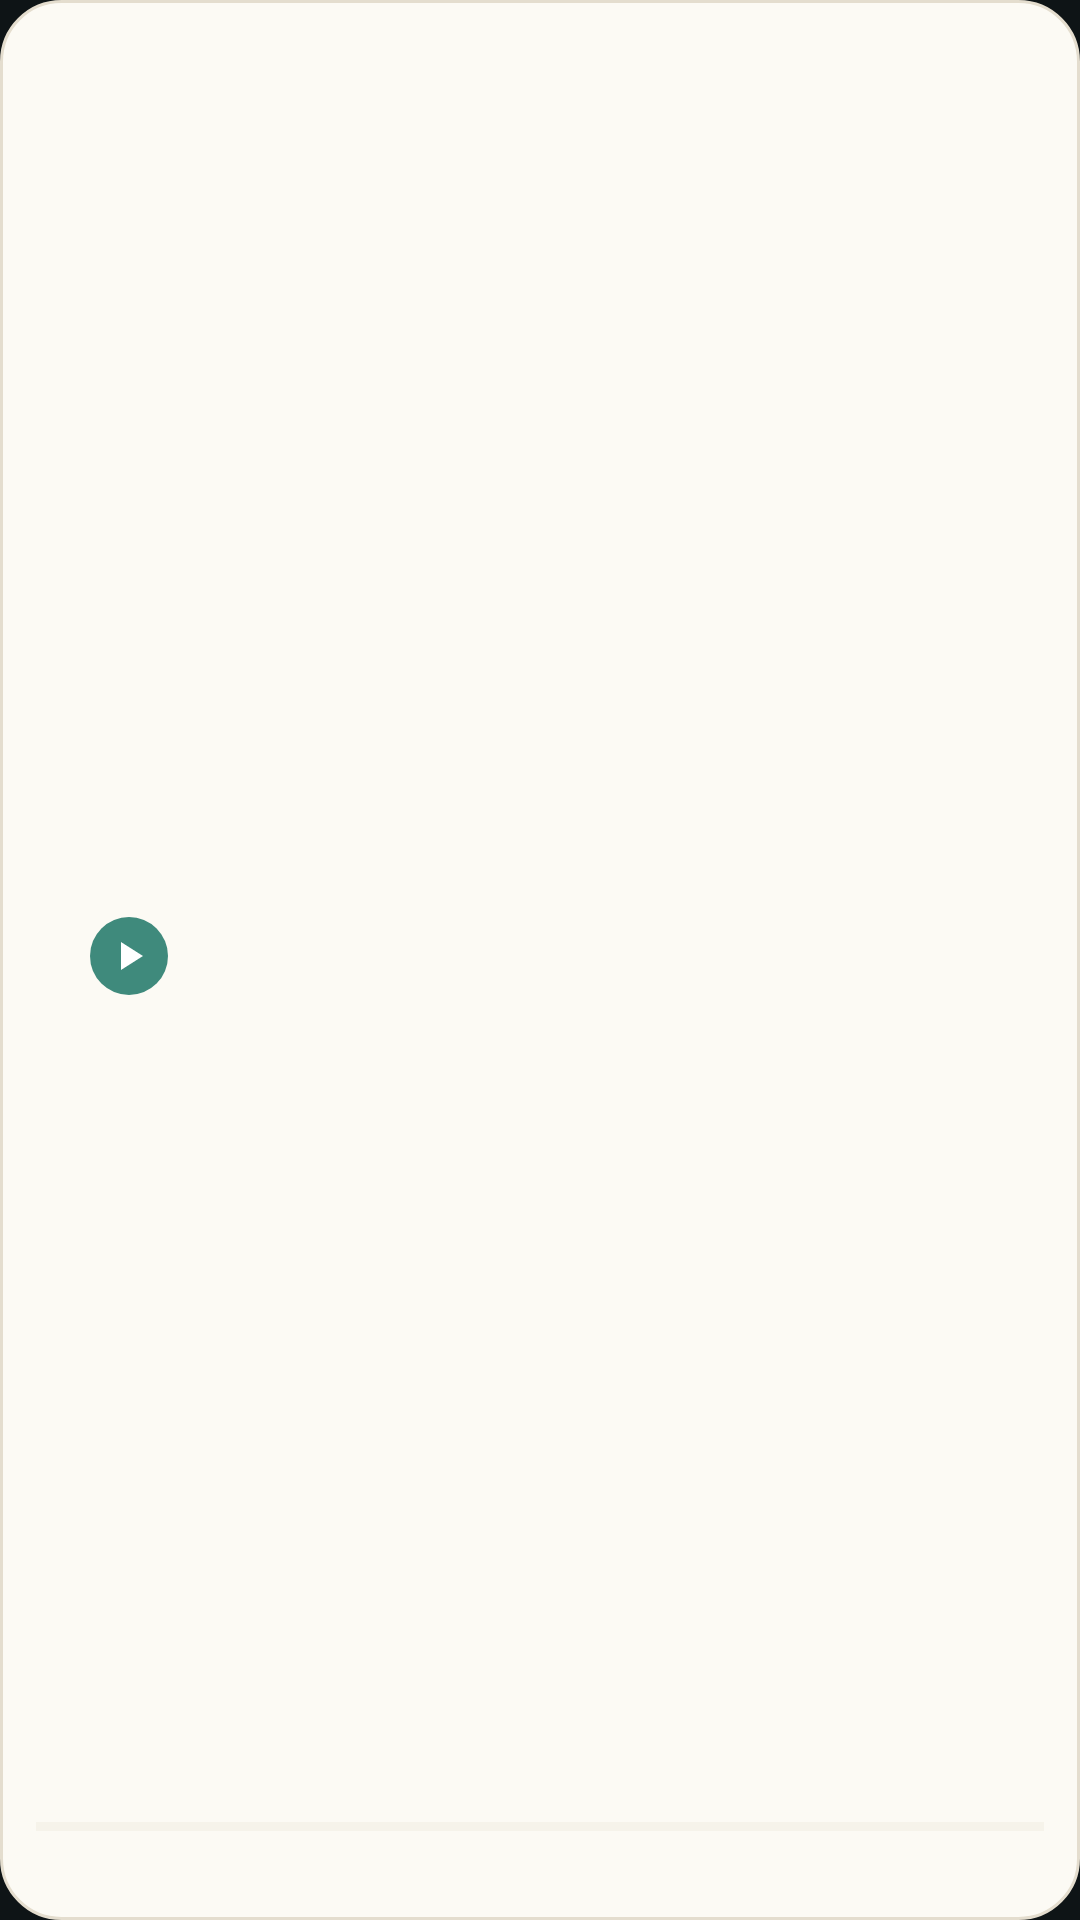

Screen size 1080 × 1920. Icon name, then its center in pixels as (x,y):
播放: (129,956)
